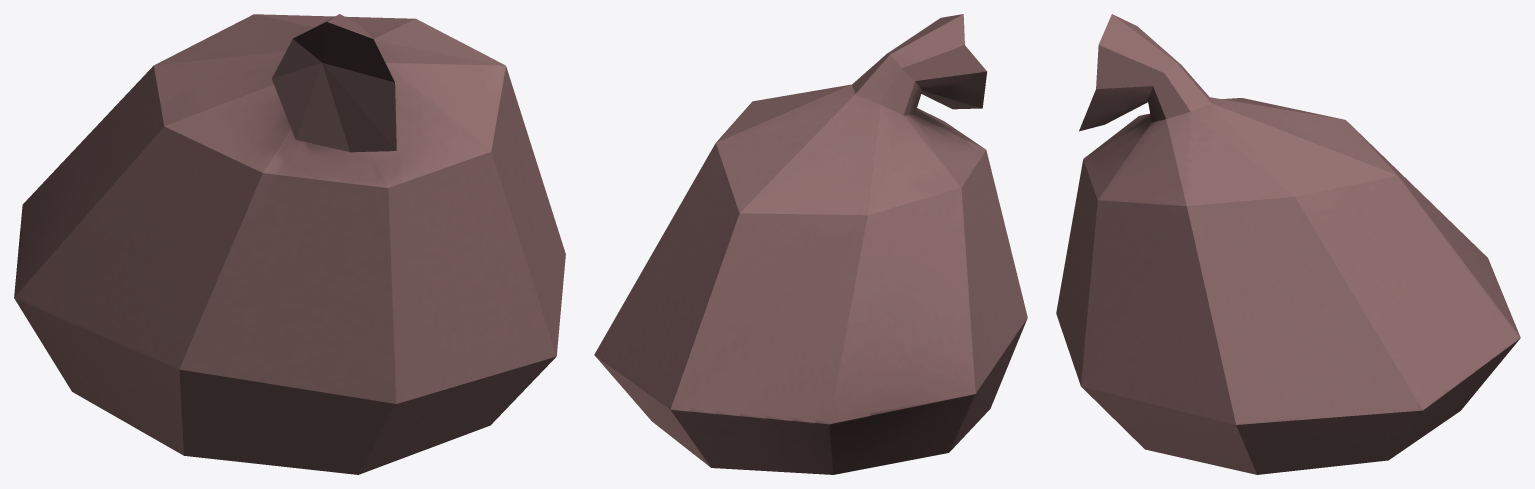
Rendered from Sack.fbx.
3 renders of one model, left to right at view 1: azimuth 30°, elevation 25°; view 2: azimuth 150°, elevation 25°; view 3: azimuth 270°, elevation 25°, orthographic. The views are drawn at different scales.
Visible parts, largest first — view 1: sack; view 2: sack; view 3: sack.
Part boxes in pixels (x1,y1,x2,y2): sack: (14,14,565,474); sack: (594,14,1027,474); sack: (1056,14,1520,474).
Bounding box in the file's own units: 0.4122 × 0.4081 × 0.4378.
